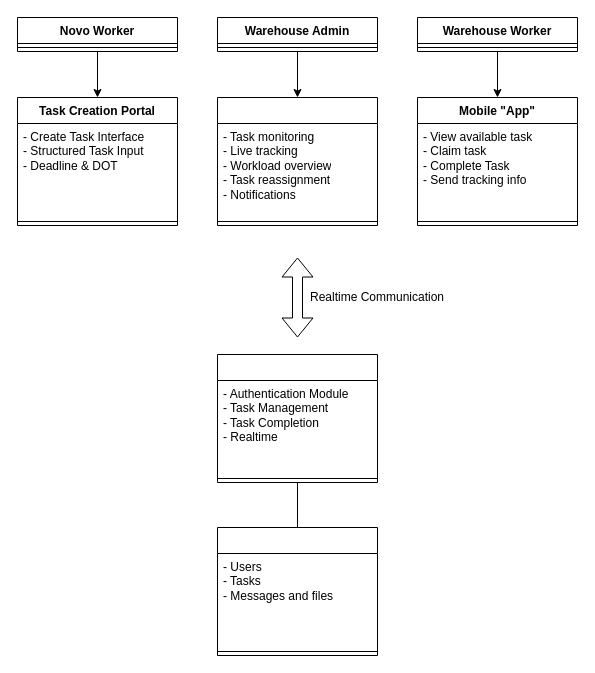
The diagram is 595 pixels wide and 673 high, and some of its shapes have lost their labels. Here are the shapes that lost their labels. From the top down, the box of each, then its label:
(216, 96, 378, 226): Dashboard
(216, 354, 378, 482): Server
(216, 526, 378, 656): Database
